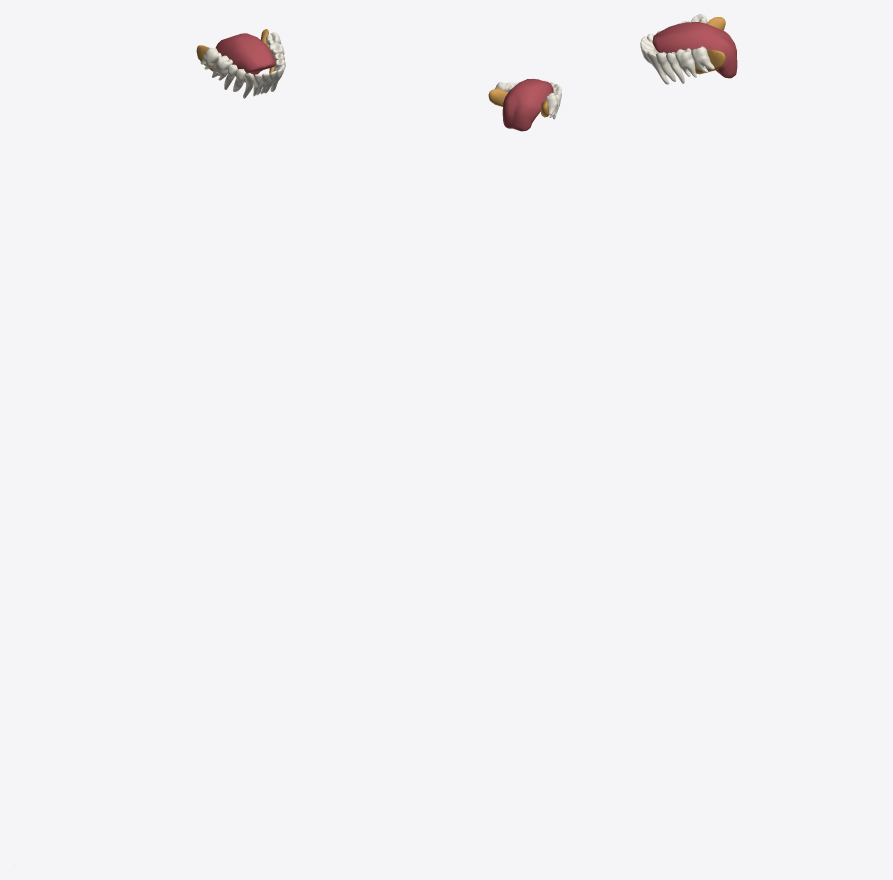
File: ogiz.glb
3 views of the same model, side by side, from view 1: azimuth 30°, elevation 25°; view 2: azimuth 150°, elevation 25°; view 3: azimuth 270°, elevation 25° (orthographic). The views are drawn at different scales.
Parts seen in each view (by area): view 1: ogiz; view 2: ogiz; view 3: ogiz.
Boxes of the visible parts, x1=… form: ogiz: x1=196, y1=29, x2=285, y2=98; ogiz: x1=488, y1=78, x2=561, y2=131; ogiz: x1=640, y1=14, x2=737, y2=84.
Size of the model in its own units: 0.2441 by 0.7272 by 0.191.
